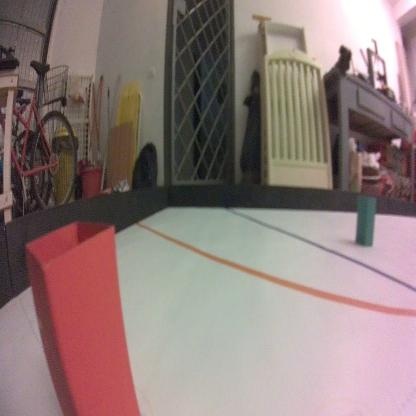green: (355, 194, 377, 247)
red: (25, 220, 140, 416)
